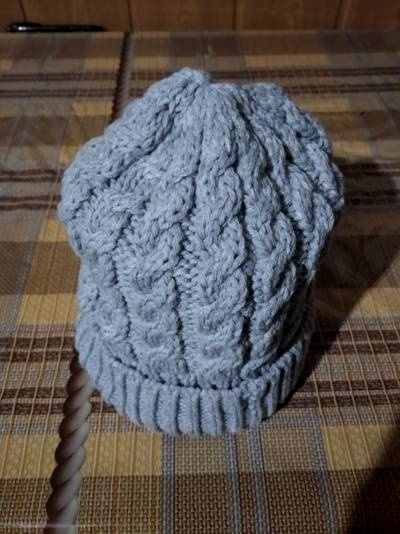Hat: (50, 64, 358, 438)
